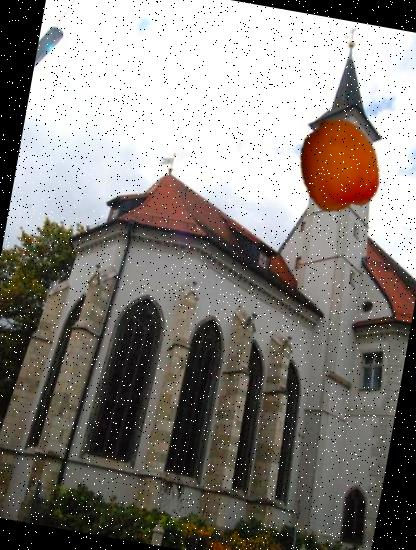Apricot: (284, 112, 392, 220)
